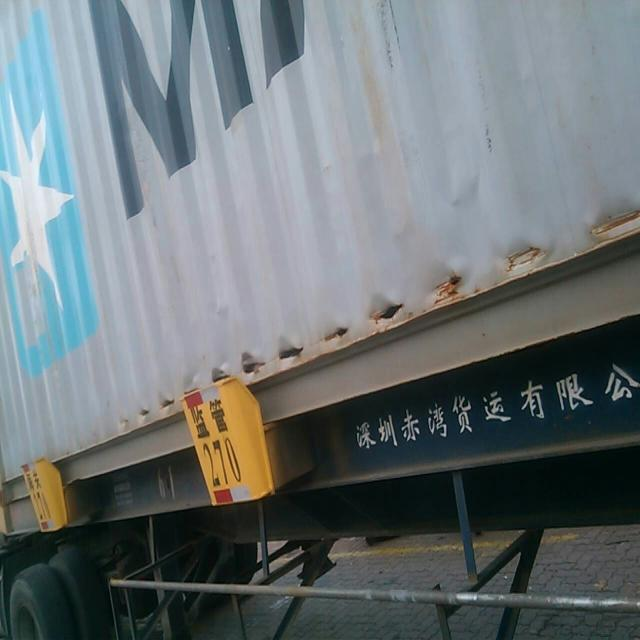hole: (366, 299, 411, 330), (279, 340, 310, 368), (238, 353, 269, 379), (323, 323, 349, 348), (159, 396, 177, 418), (213, 371, 231, 389)
